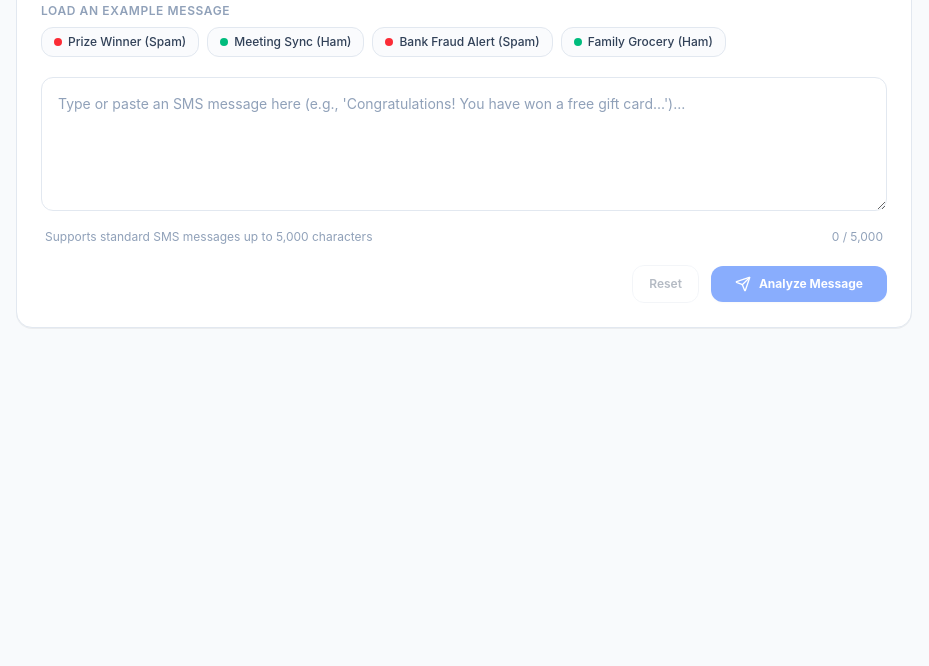
AnalyzerPage Component › submits prediction and displays SPAM verdict card
Replace the text in the text box with placeholder "Type or paste an SMS message here" with "Congratulations! You have won a free prize." at point(464, 144), box [41,77,887,211]
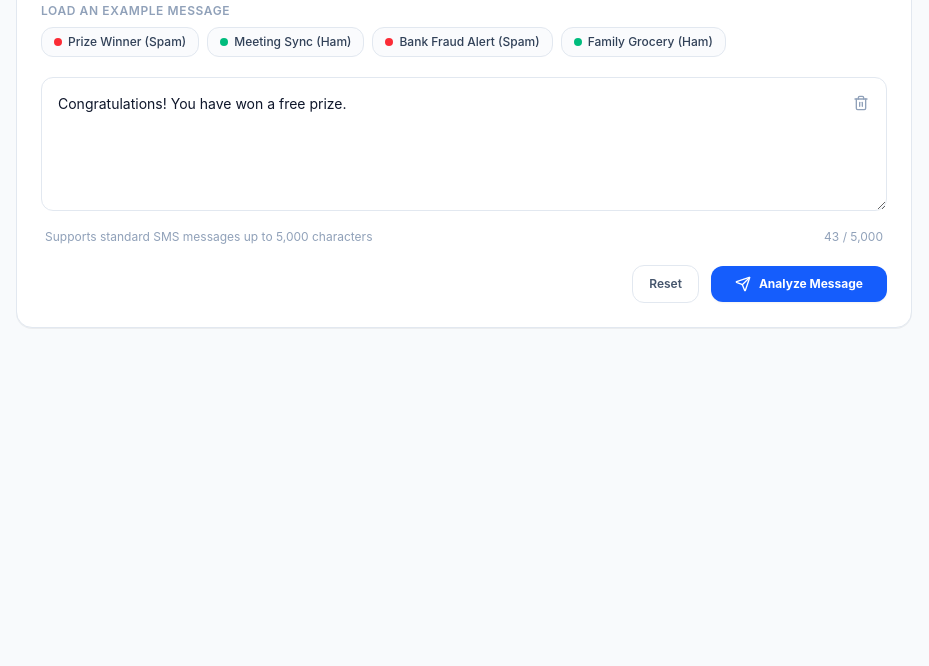
Expected: the button "Analyze Message" is enabled
Click the button "Analyze Message" at point(799, 284), box [711,266,887,302]
(page scrolled)
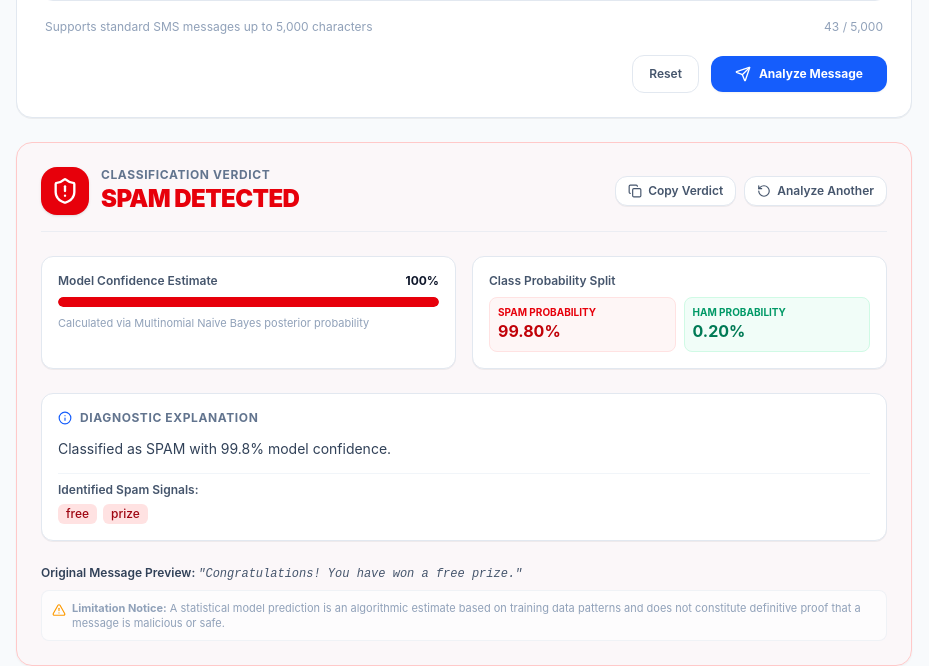
Expected: the text "SPAM DETECTED" is shown, [101,184,299,213]
Expected: the text "100%" is shown, [406,273,439,289]
Expected: the text "Classified as SPAM with 99.8% model confidence." is shown, [58,440,391,457]
